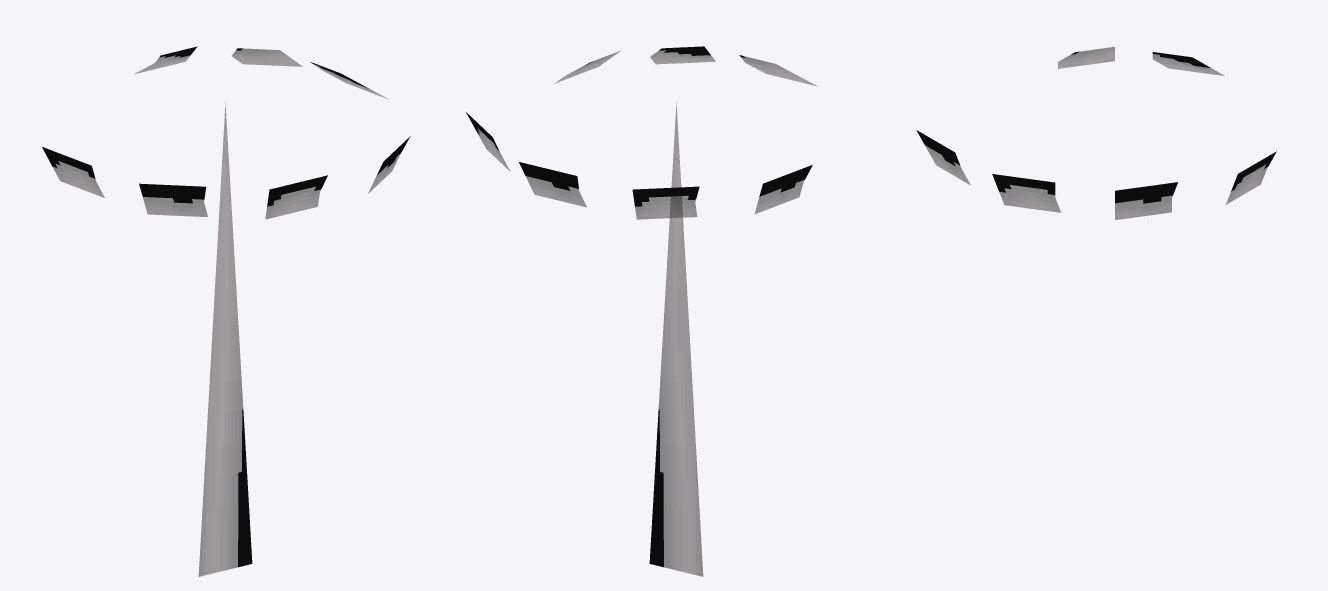
Rendered from 93_efe.gltf.
The picture shows the model from 3 angles, left to right: view 1: azimuth 30°, elevation 25°; view 2: azimuth 150°, elevation 25°; view 3: azimuth 270°, elevation 25°; orthographic projection.
Size of the model in its own units: 820 by 1000 by 780.
1 material, 1 textured.
